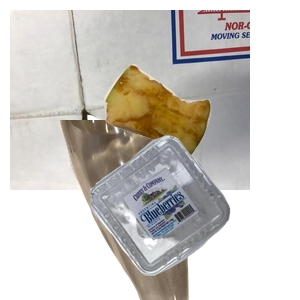cardboard: (10, 10, 250, 190)
glass: (56, 120, 241, 300)
plastic: (88, 133, 300, 300)
trash: (101, 62, 300, 217)
